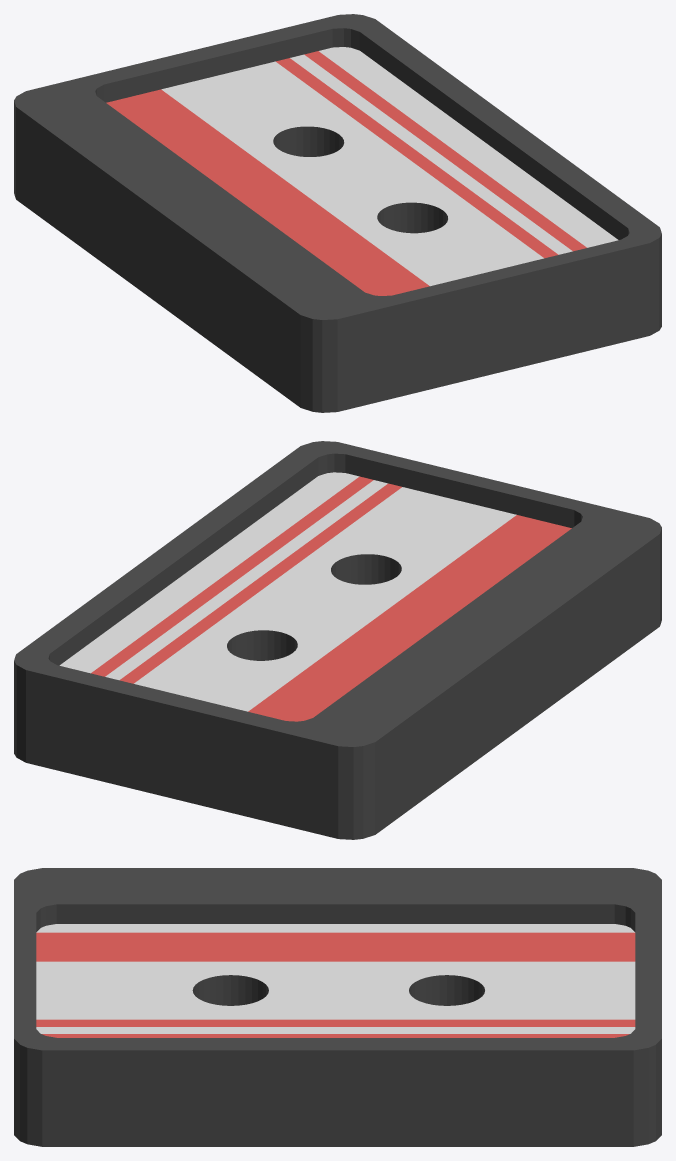
File: BetterVHS.fbx
The picture shows the model from 3 angles, top to bottom: view 1: azimuth 30°, elevation 25°; view 2: azimuth 150°, elevation 25°; view 3: azimuth 270°, elevation 25°; orthographic projection. The views are drawn at different scales.
Parts seen in each view (by area): view 1: Cube; view 2: Cube; view 3: Cube.
Part boxes in pixels (<box>): Cube: <box>14,14,661,412</box>; Cube: <box>14,441,661,839</box>; Cube: <box>14,868,661,1146</box>.
Size of the model in its own units: 822 by 203 by 1234.
